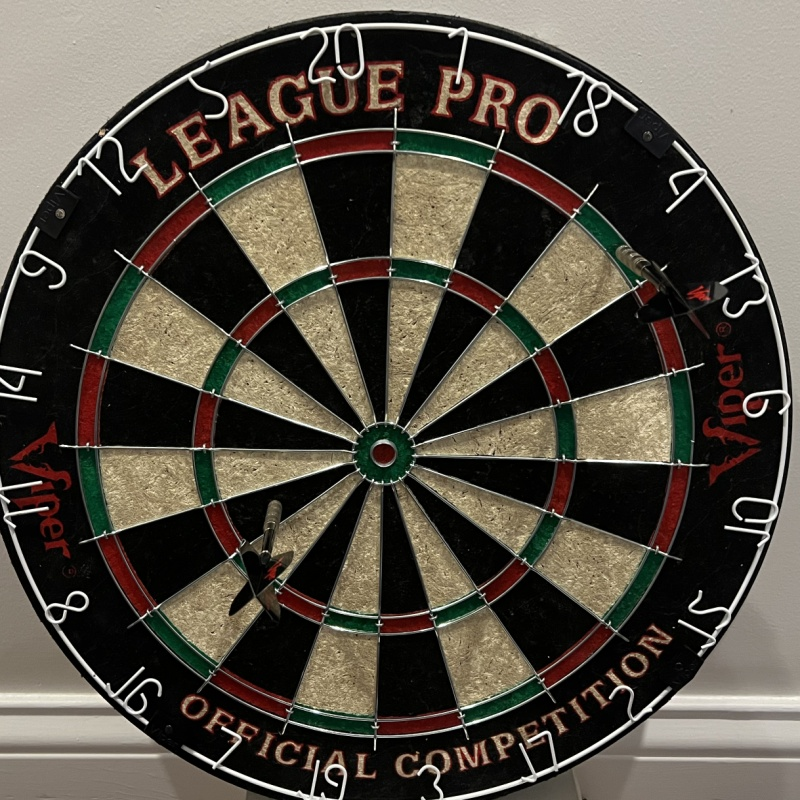dart: (610, 242, 634, 268), (265, 498, 285, 523)
eleven: (1, 477, 50, 528)
six: (742, 390, 792, 418)
three: (417, 762, 443, 800)
twenty: (299, 21, 365, 83)
